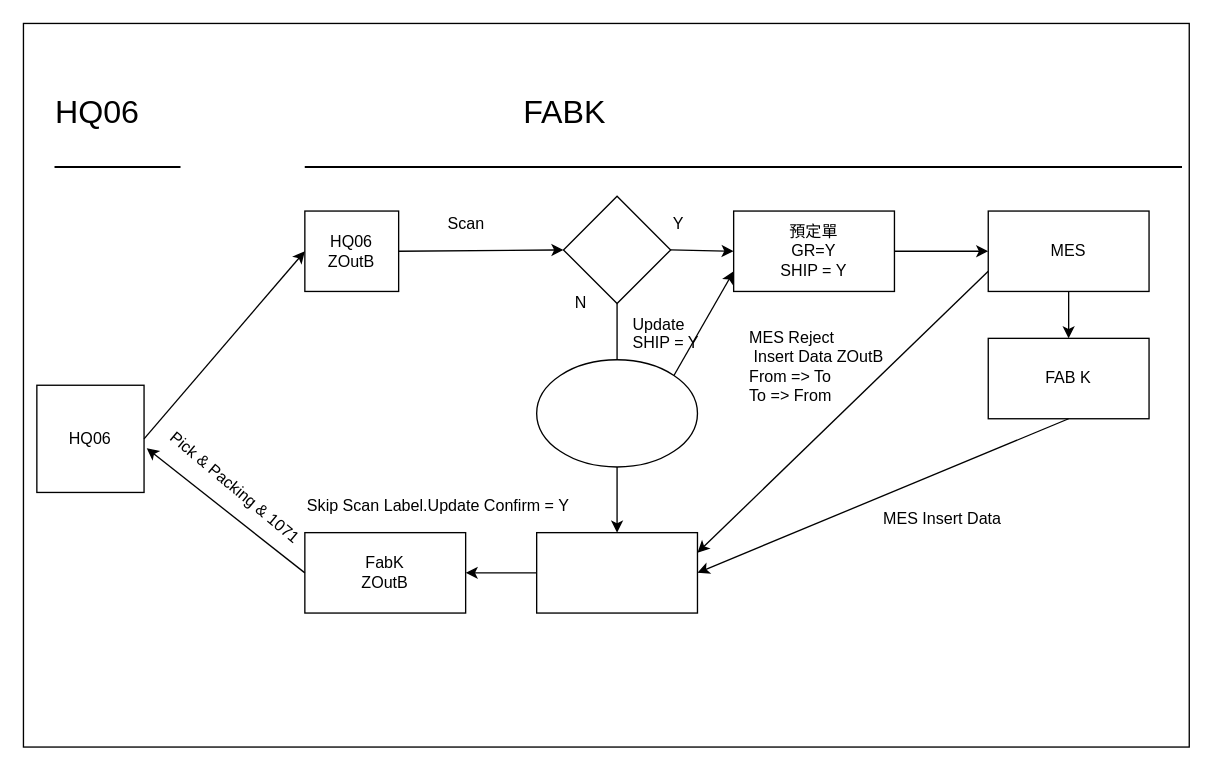
This 1215x771 diagram has some shape labels left out. The shapes that lost their labels are listed below. From the top down, each one's box as (x1, y1, x2, y2) in pixels, then its label:
(562, 195, 671, 304): GR&預定單Confirm
(535, 358, 697, 467): GR = Y SHIP = ' ' DS30 透過IMAS Trigger 迴轉HQ06
(535, 531, 697, 613): FabK ZInB
